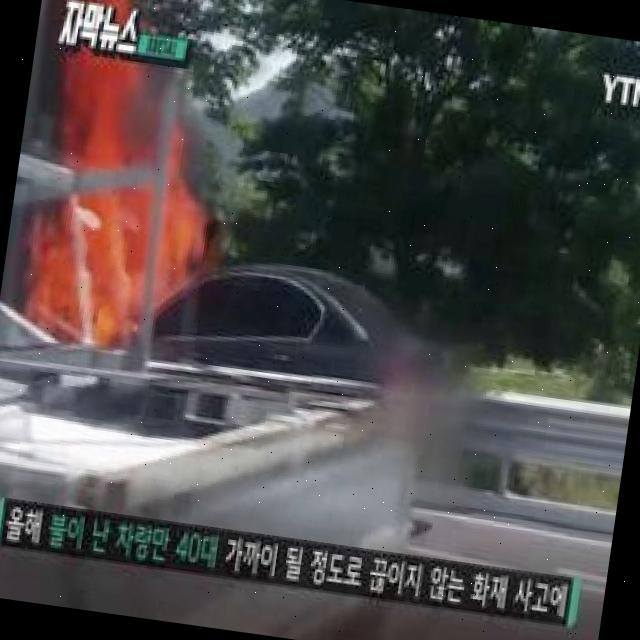fire: (23, 45, 224, 373)
